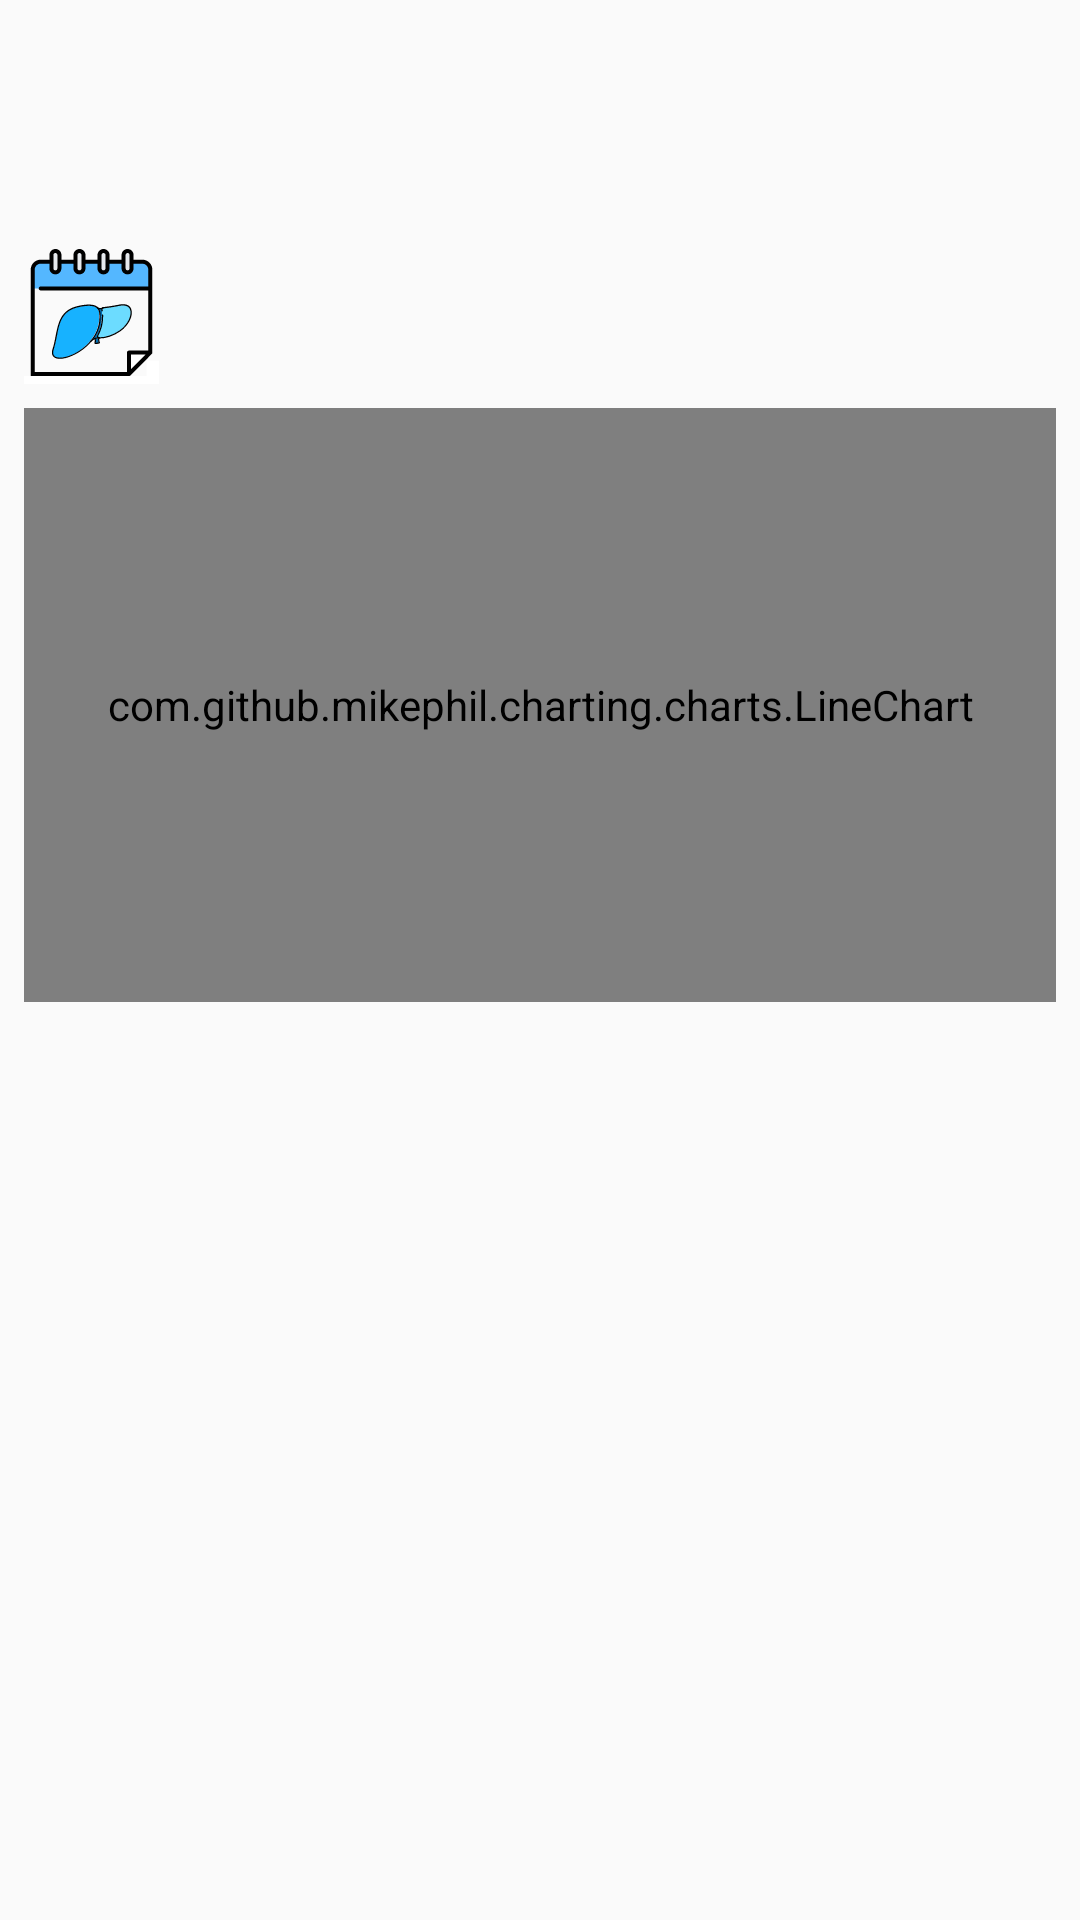

Icon bounding boxes for this 1080x1920 phone screenshot, format {"left": x1, "top": y1, "right": x2, "bottom": y2}:
calendar: {"left": 30, "top": 249, "right": 153, "bottom": 376}
